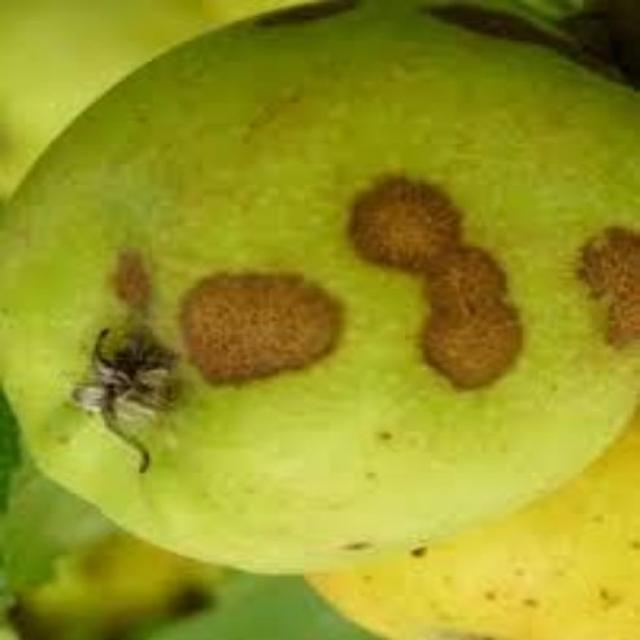Rotten Apple: (13, 15, 638, 600)
